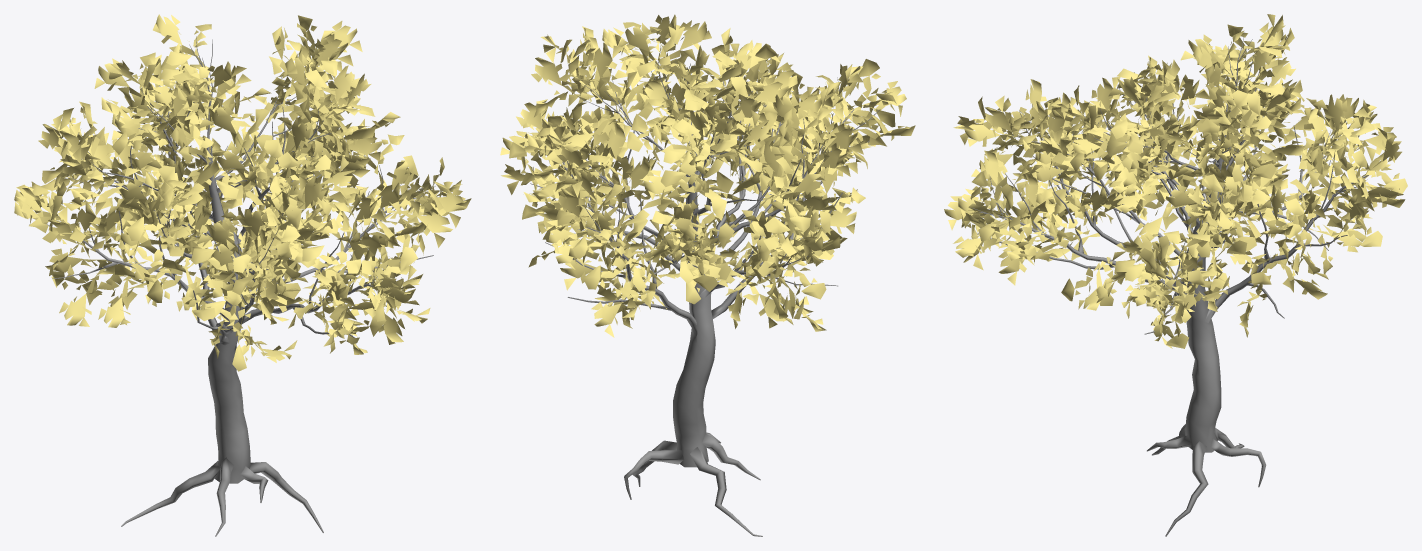
Rendered from tree_02_LOD1.FBX.
3 renders of one model, left to right at view 1: azimuth 30°, elevation 25°; view 2: azimuth 150°, elevation 25°; view 3: azimuth 270°, elevation 25°, orthographic. The views are drawn at different scales.
Visible parts, largest first — view 1: Tree_02_LOD1; view 2: Tree_02_LOD1; view 3: Tree_02_LOD1.
Boxes of the visible parts, left/top/right/bottom form: Tree_02_LOD1: left=14, top=14, right=471, bottom=536; Tree_02_LOD1: left=500, top=14, right=915, bottom=536; Tree_02_LOD1: left=944, top=14, right=1407, bottom=536.
Size of the model in its own units: 7.91 by 9.56 by 8.47.
